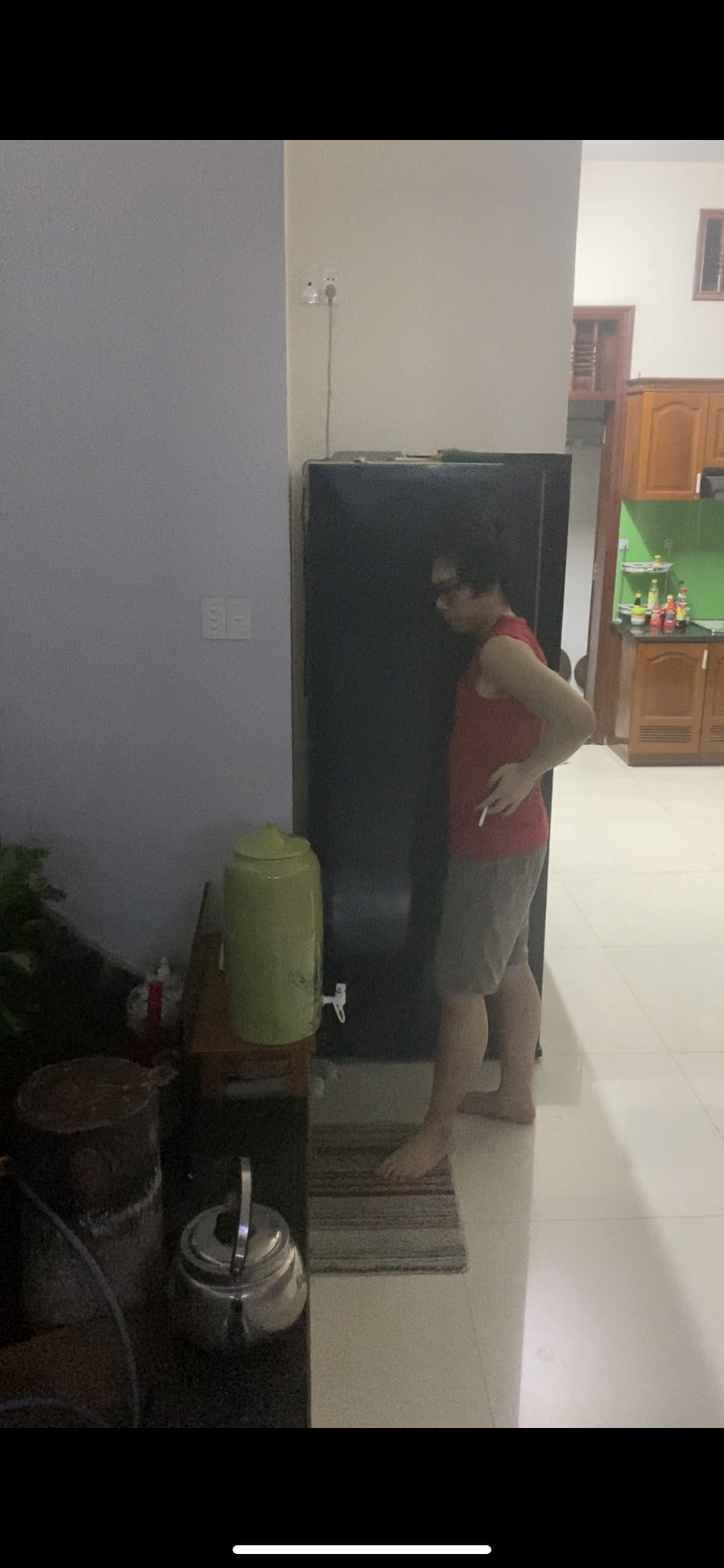cigarette: (473, 804, 492, 830)
